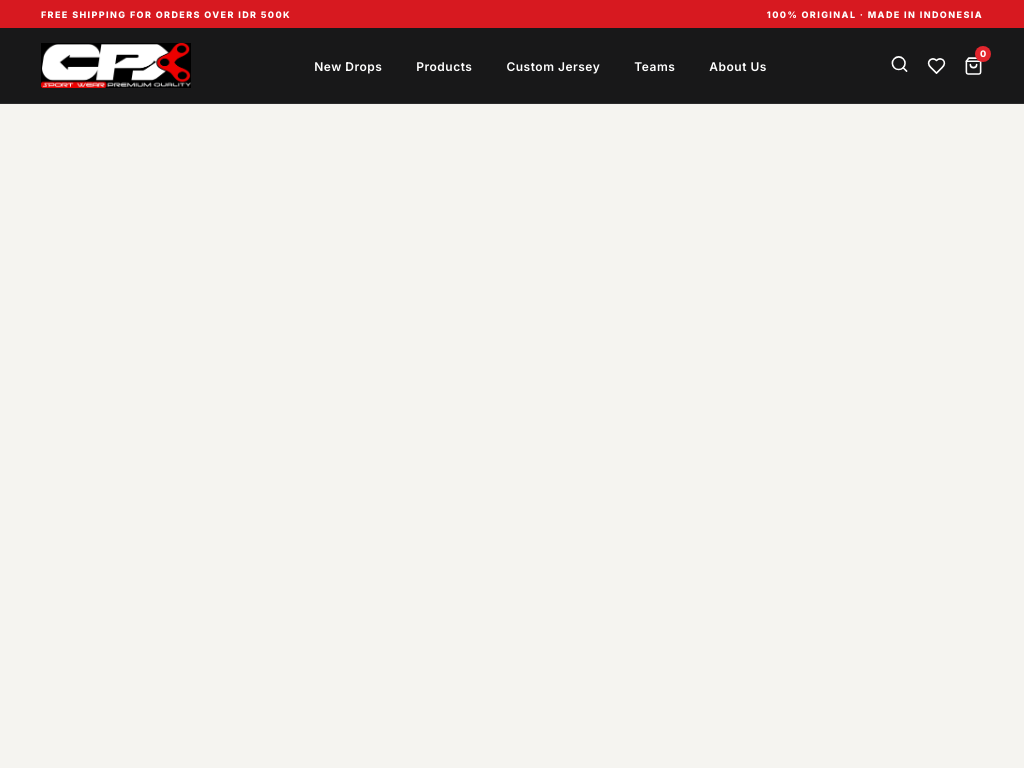
Test case: Header › opens cart drawer from the bag button
What coordinates should you click on to do the following:
click the button named "Open cart"
I would click on:
 (974, 66)
Its box is [964, 54, 983, 78].
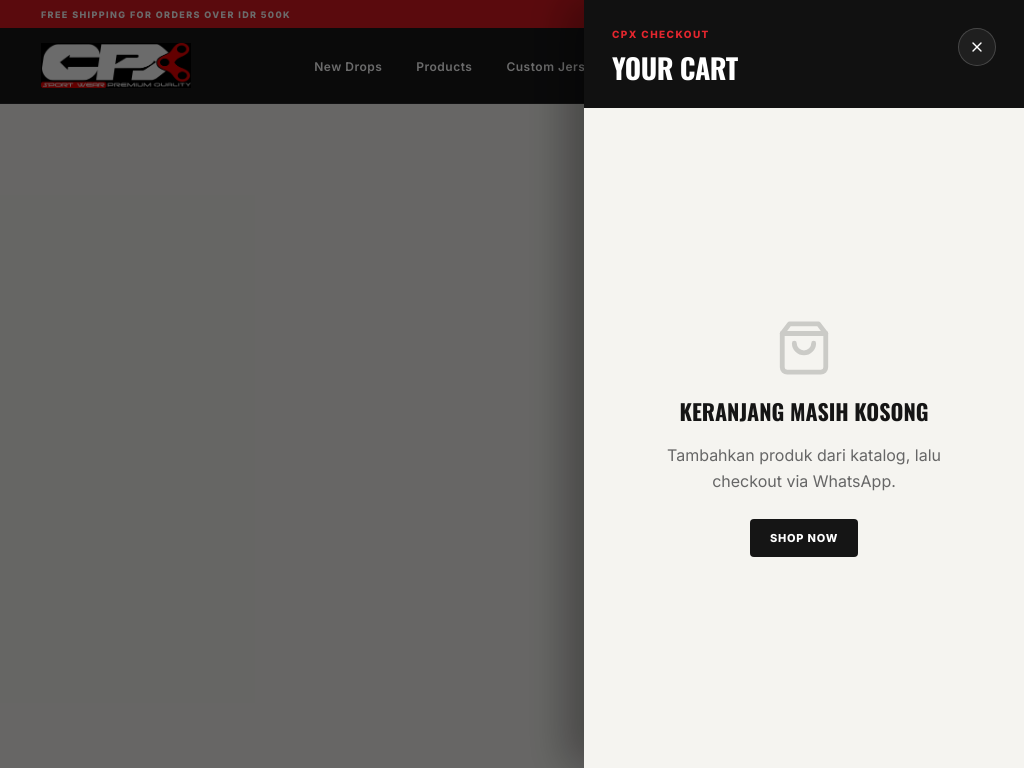
expect the dialog named "Shopping cart" is shown: met, box [584, 0, 1023, 767]
expect the heading "YOUR CART" is shown: met, box [612, 47, 738, 88]
